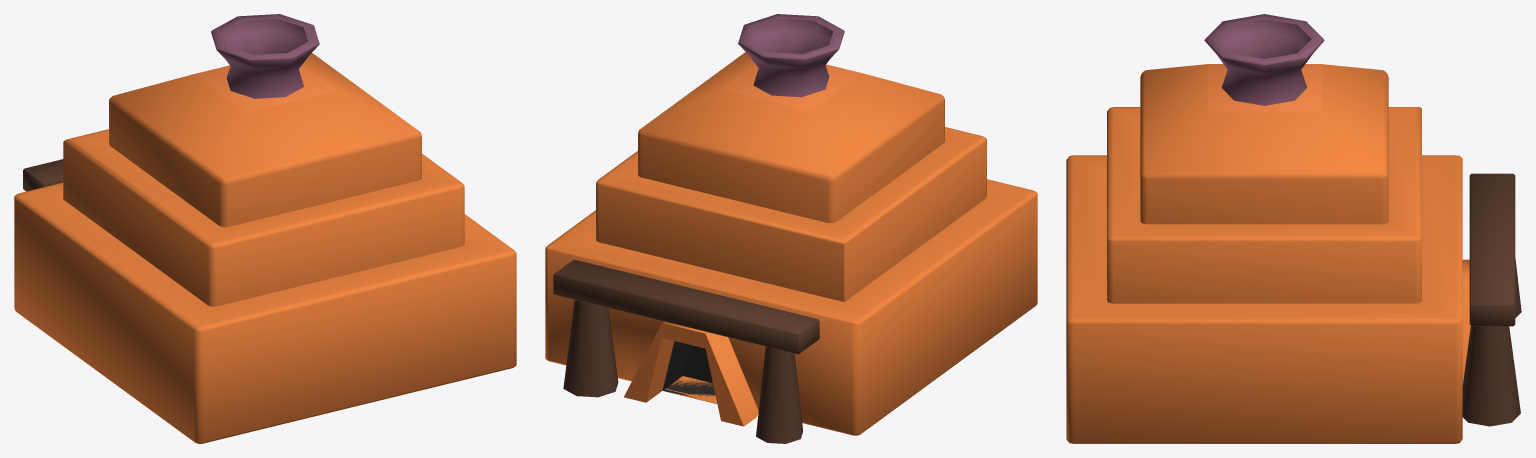
The model's file is templend.fbx.
The picture shows the model from 3 angles, left to right: view 1: azimuth 30°, elevation 25°; view 2: azimuth 150°, elevation 25°; view 3: azimuth 270°, elevation 25°; orthographic projection. The views are drawn at different scales.
Parts seen in each view (by area): view 1: templend; view 2: templend; view 3: templend.
Part boxes in pixels (x1,y1,x2,y2): templend: (14,14,516,443); templend: (545,14,1037,443); templend: (1066,14,1521,443).
Size of the model in its own units: 827 by 744 by 951.
